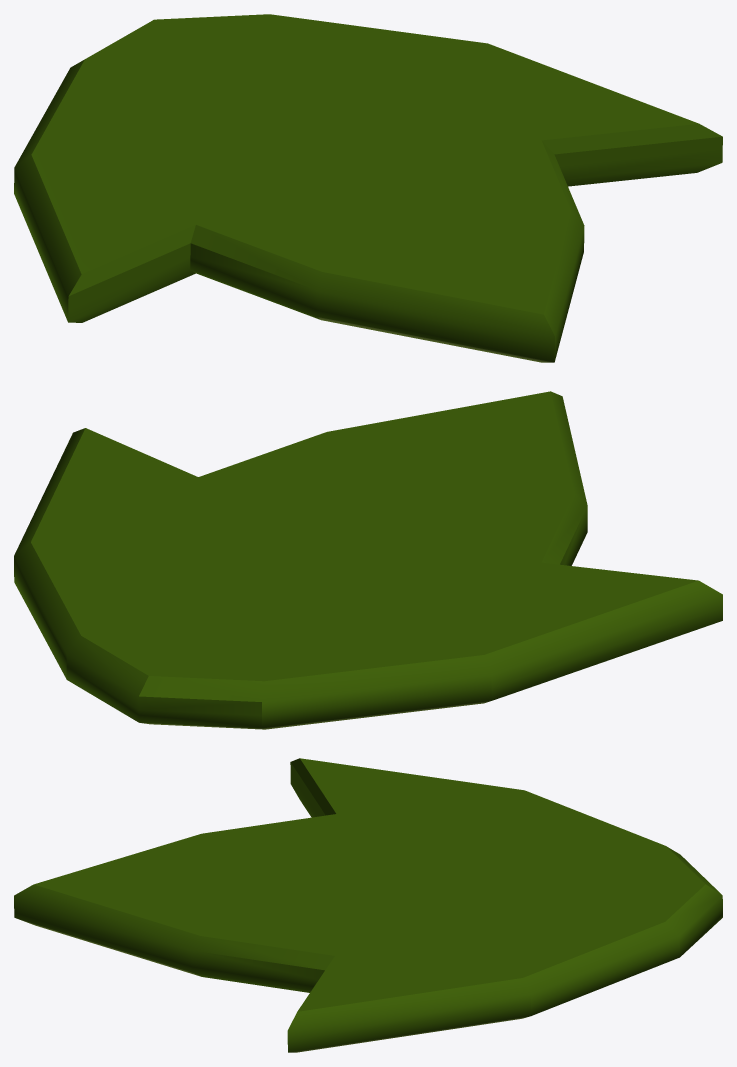
The model's file is Foglia.fbx.
3 renders of one model, top to bottom at view 1: azimuth 30°, elevation 25°; view 2: azimuth 150°, elevation 25°; view 3: azimuth 270°, elevation 25°, orthographic. The views are drawn at different scales.
Visible parts, largest first — view 1: Worms_Foglia; view 2: Worms_Foglia; view 3: Worms_Foglia.
Part boxes in pixels (x1,y1,x2,y2): Worms_Foglia: (14, 14, 722, 362); Worms_Foglia: (14, 391, 722, 729); Worms_Foglia: (14, 758, 722, 1052).
Bounding box in the file's own units: 0.000977 × 7.56e-05 × 0.00108.
1 material, 1 textured.
